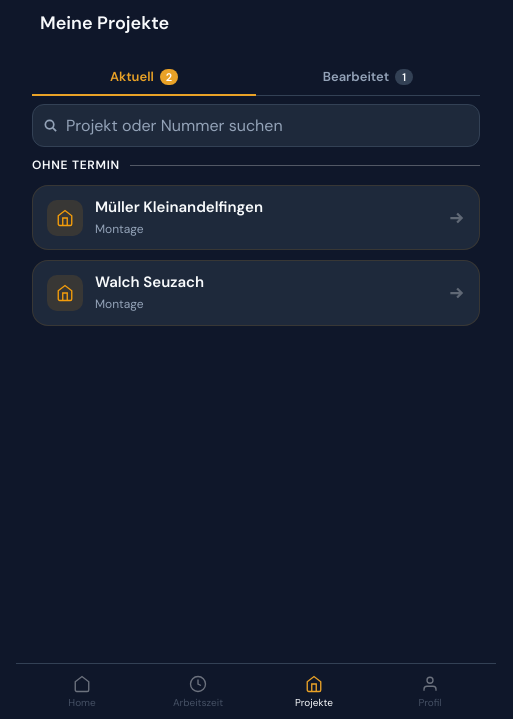
ProjekteScreen — Reiter Aktuell / Bearbeitet › weist bei der Suche auf den anderen Reiter hin
This screenshot has width=513, height=719.
Expected: the text "Müller Kleinandelfingen" is shown, [95,197,263,217]
Step 1. Type "schneider" into the search field labelled "Projekt oder Nummer suchen" → (268, 126), box [66,105,469,146]
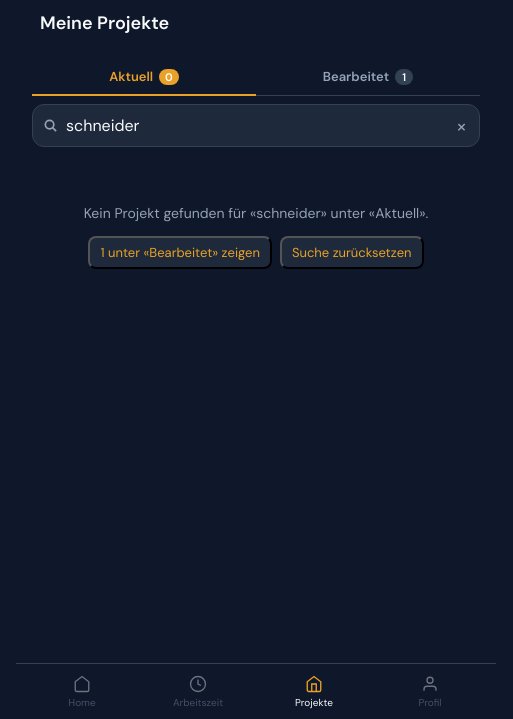
Expected: the text "Kein Projekt gefunden" is shown, [84,204,256,222]
Step 2. Click the button "1 unter «Bearbeitet» zeigen" → (180, 252), box [88,236,272,269]
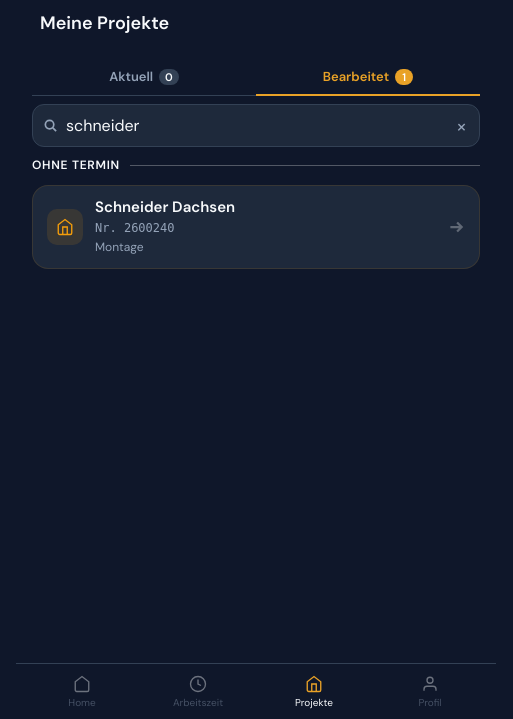
Expected: the text "Schneider Dachsen" is shown, [95,197,235,217]
